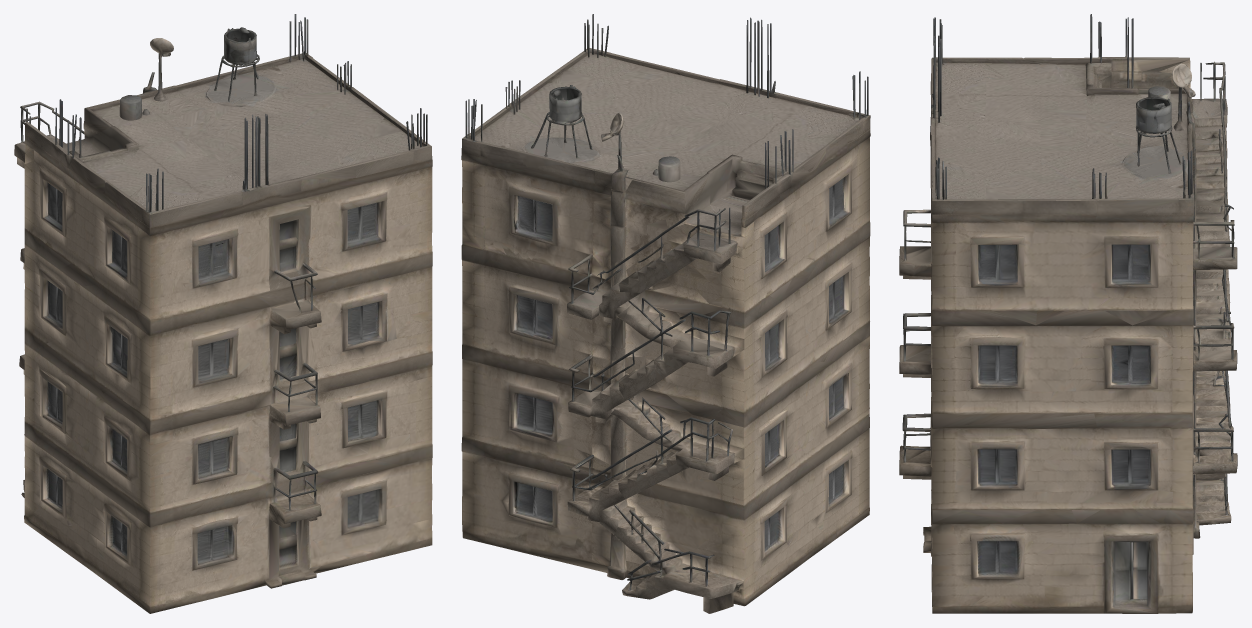
The model's file is apartment.glb.
The picture shows the model from 3 angles, left to right: view 1: azimuth 30°, elevation 25°; view 2: azimuth 150°, elevation 25°; view 3: azimuth 270°, elevation 25°; orthographic projection. The views are drawn at different scales.
Visible parts, largest first — view 1: wall, roof, metal, trim; view 2: wall, metal, roof, trim; view 3: wall, roof, metal, trim.
Part boxes in pixels (x1,y1,x2,y2): wall: [17, 20, 432, 613]; roof: [83, 59, 423, 211]; metal: [14, 14, 427, 511]; trim: [25, 53, 431, 214]; wall: [461, 26, 870, 613]; metal: [465, 14, 868, 599]; roof: [475, 52, 858, 190]; trim: [462, 48, 869, 205]; wall: [899, 23, 1237, 613]; roof: [935, 62, 1188, 199]; metal: [933, 14, 1231, 525]; trim: [930, 57, 1193, 200].
Size of the model in its own units: 14.75 by 23.23 by 14.66.
Materials: 1 (1 with a texture image).
